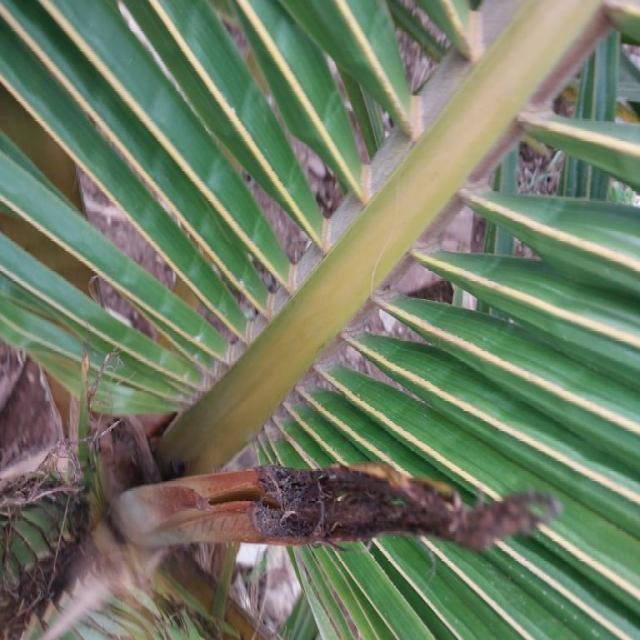bud rot: (111, 465, 560, 549)
